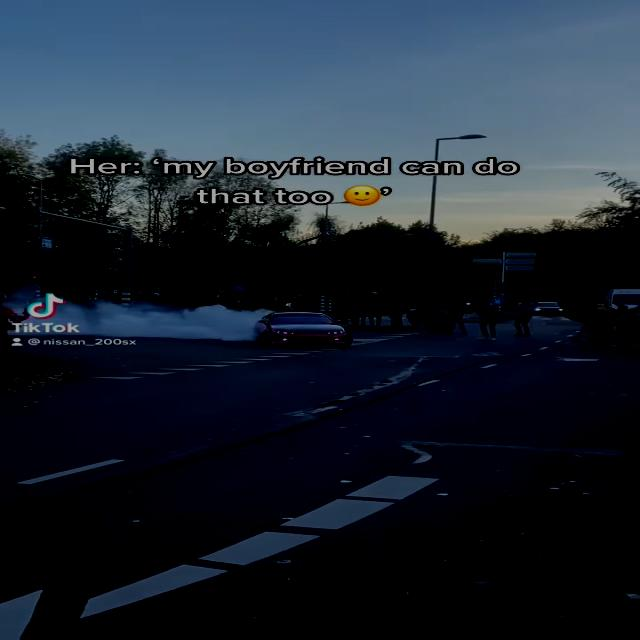car: (256, 309, 355, 355)
